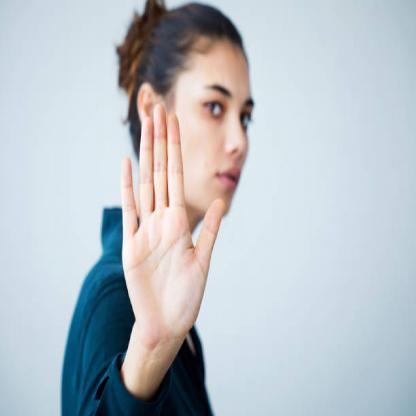stop: (120, 101, 228, 346)
